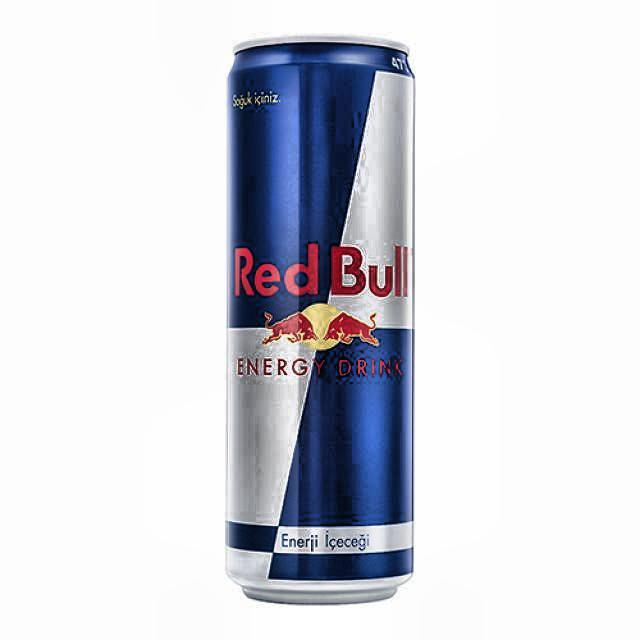metal: (221, 36, 418, 609)
